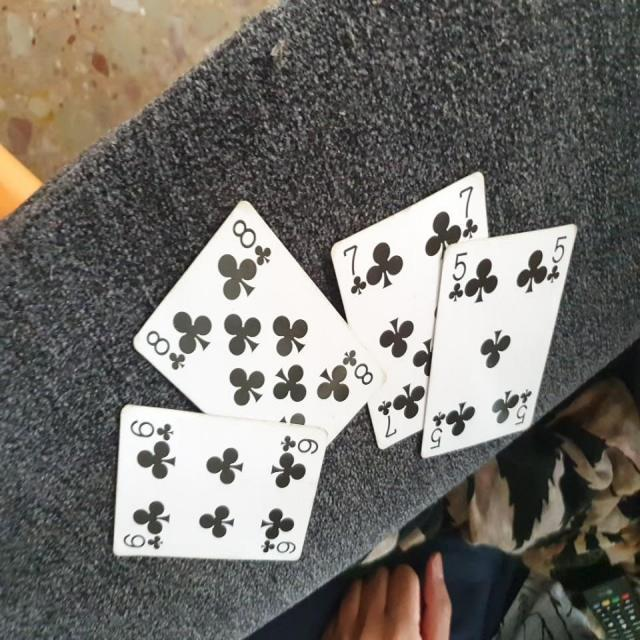5 of clubs: (419, 221, 582, 458)
6 of clubs: (112, 404, 327, 564)
7 of clubs: (328, 170, 490, 450)
8 of clubs: (129, 195, 388, 442)
